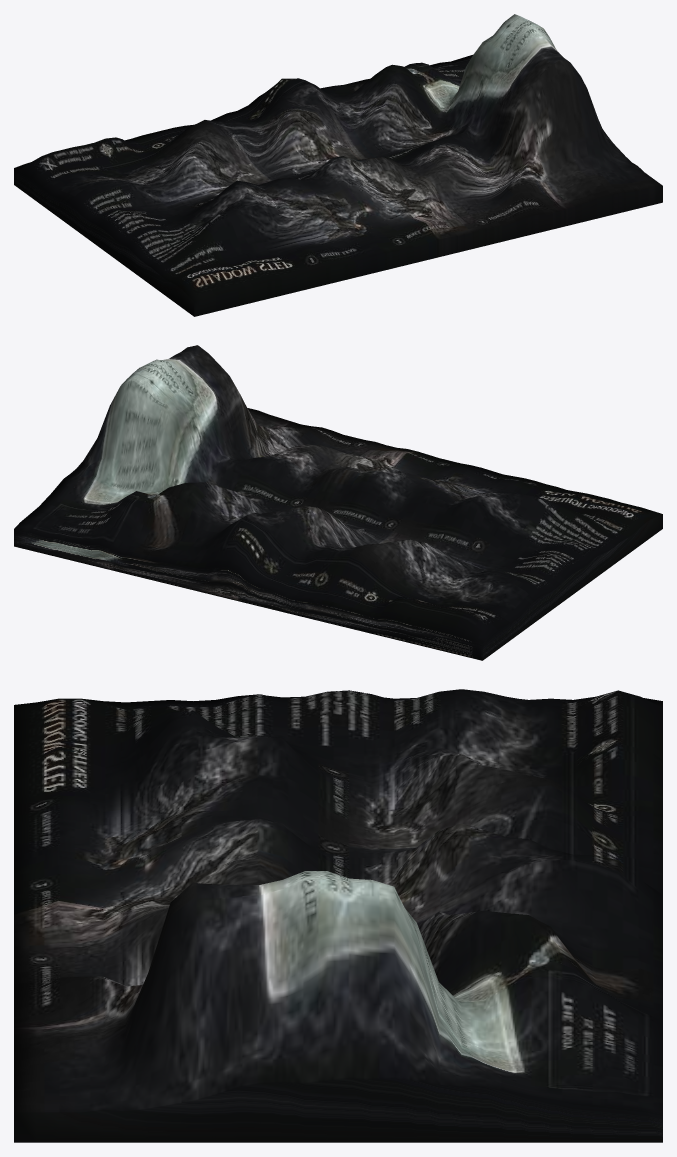
Rendered from CUL_47_Shadow_Step_Qinggong.glb.
The picture shows the model from 3 angles, top to bottom: view 1: azimuth 30°, elevation 25°; view 2: azimuth 150°, elevation 25°; view 3: azimuth 270°, elevation 25°; orthographic projection. The views are drawn at different scales.
Visible parts, largest first — view 1: CUL_47_Shadow_Step_Qinggong; view 2: CUL_47_Shadow_Step_Qinggong; view 3: CUL_47_Shadow_Step_Qinggong.
Part boxes in pixels (<box>): CUL_47_Shadow_Step_Qinggong: <box>14,14,662,316</box>; CUL_47_Shadow_Step_Qinggong: <box>14,345,662,660</box>; CUL_47_Shadow_Step_Qinggong: <box>14,689,662,1142</box>.
Size of the model in its own units: 2 by 0.51 by 1.33.
1 material, 1 textured.
